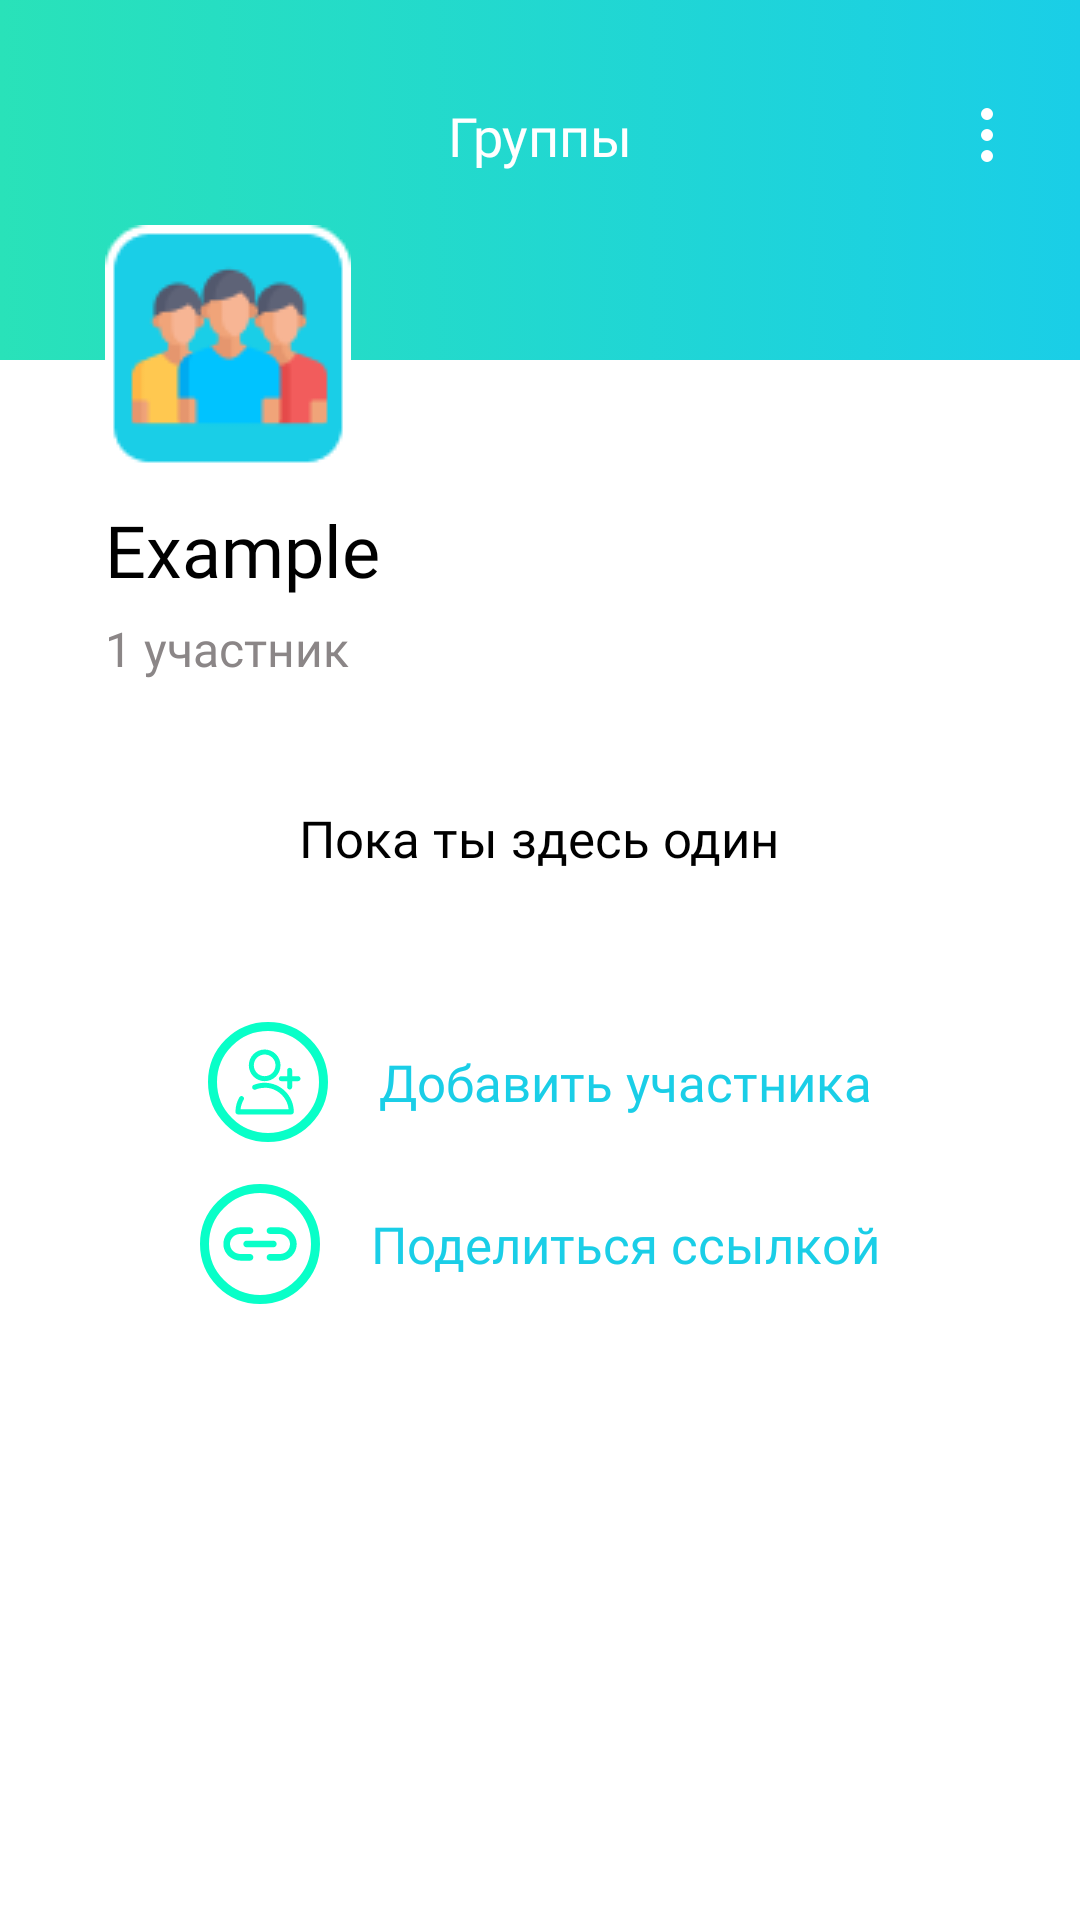

Point at icon controls on the screen. Image size 1080×1920, points as (x,y).
add friend circle: (268,1082)
link: (260,1244)
